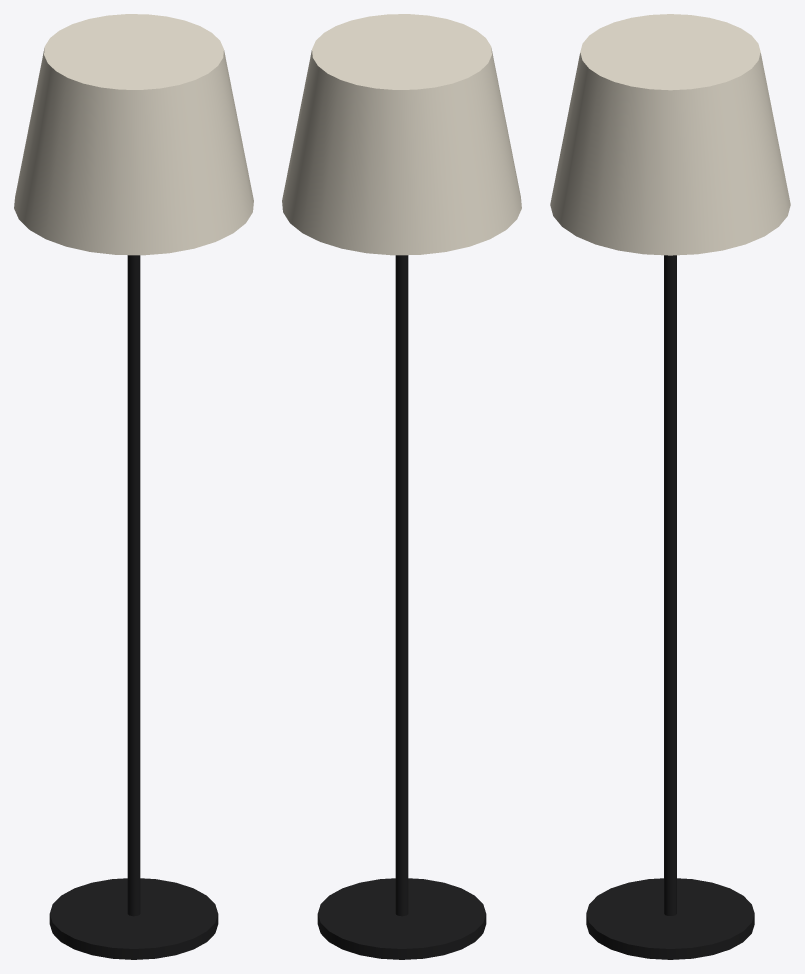
Rendered from 09_lampa_stojaca.glb.
3 renders of one model, left to right at view 1: azimuth 30°, elevation 25°; view 2: azimuth 150°, elevation 25°; view 3: azimuth 270°, elevation 25°, orthographic.
Visible parts, largest first — view 1: Lampa_abazur, Lampa_podstawa, Lampa_stojak; view 2: Lampa_abazur, Lampa_podstawa, Lampa_stojak; view 3: Lampa_abazur, Lampa_podstawa, Lampa_stojak.
Boxes of the visible parts, bbox=[...] form: Lampa_abazur: bbox=[14, 14, 253, 255]; Lampa_podstawa: bbox=[49, 878, 218, 959]; Lampa_stojak: bbox=[127, 255, 140, 916]; Lampa_abazur: bbox=[282, 14, 521, 255]; Lampa_podstawa: bbox=[317, 878, 486, 959]; Lampa_stojak: bbox=[395, 255, 408, 916]; Lampa_abazur: bbox=[550, 14, 790, 255]; Lampa_podstawa: bbox=[586, 878, 754, 959]; Lampa_stojak: bbox=[664, 255, 676, 915].
Bounding box in the file's own units: 0.4 × 1.6 × 0.4.
